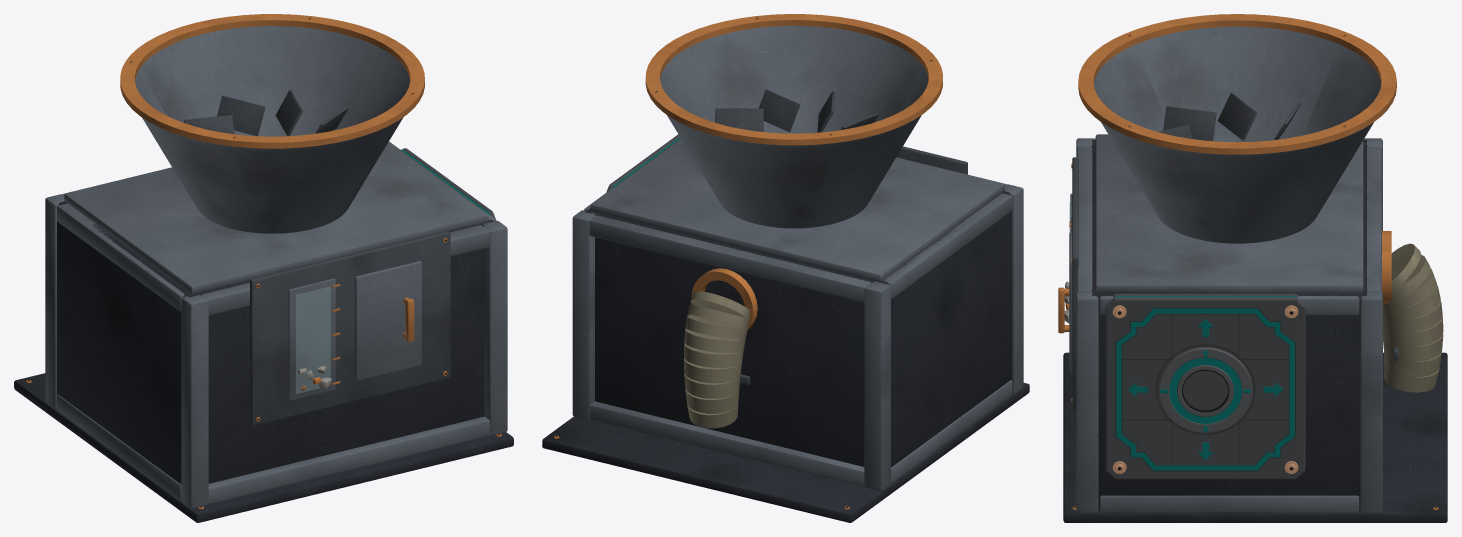
Rendered from resource_collector.glb.
3 views of the same model, side by side, from view 1: azimuth 30°, elevation 25°; view 2: azimuth 150°, elevation 25°; view 3: azimuth 270°, elevation 25° (orthographic). The views are drawn at different scales.
Parts seen in each view (by area): view 1: Body, IOPort_out; view 2: Body; view 3: Body, IOPort_out.
Part boxes in pixels (x1=…): Body: x1=14, y1=14, x2=513, y2=522; IOPort_out: x1=399, y1=148, x2=496, y2=220; Body: x1=542, y1=14, x2=1029, y2=522; Body: x1=1058, y1=14, x2=1447, y2=522; IOPort_out: x1=1105, y1=293, x2=1305, y2=479.
Size of the model in its own units: 0.9787 by 0.9989 by 0.973.
Materials: 17 (6 with a texture image).
